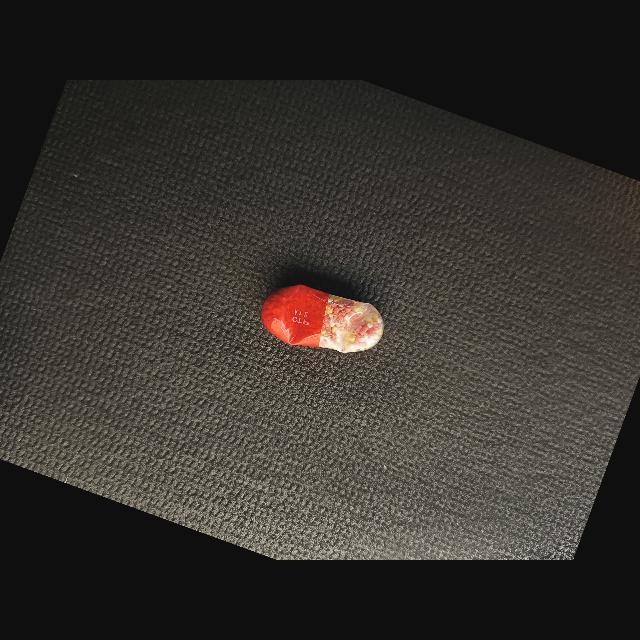Defective Capsule: (261, 284, 384, 353)
